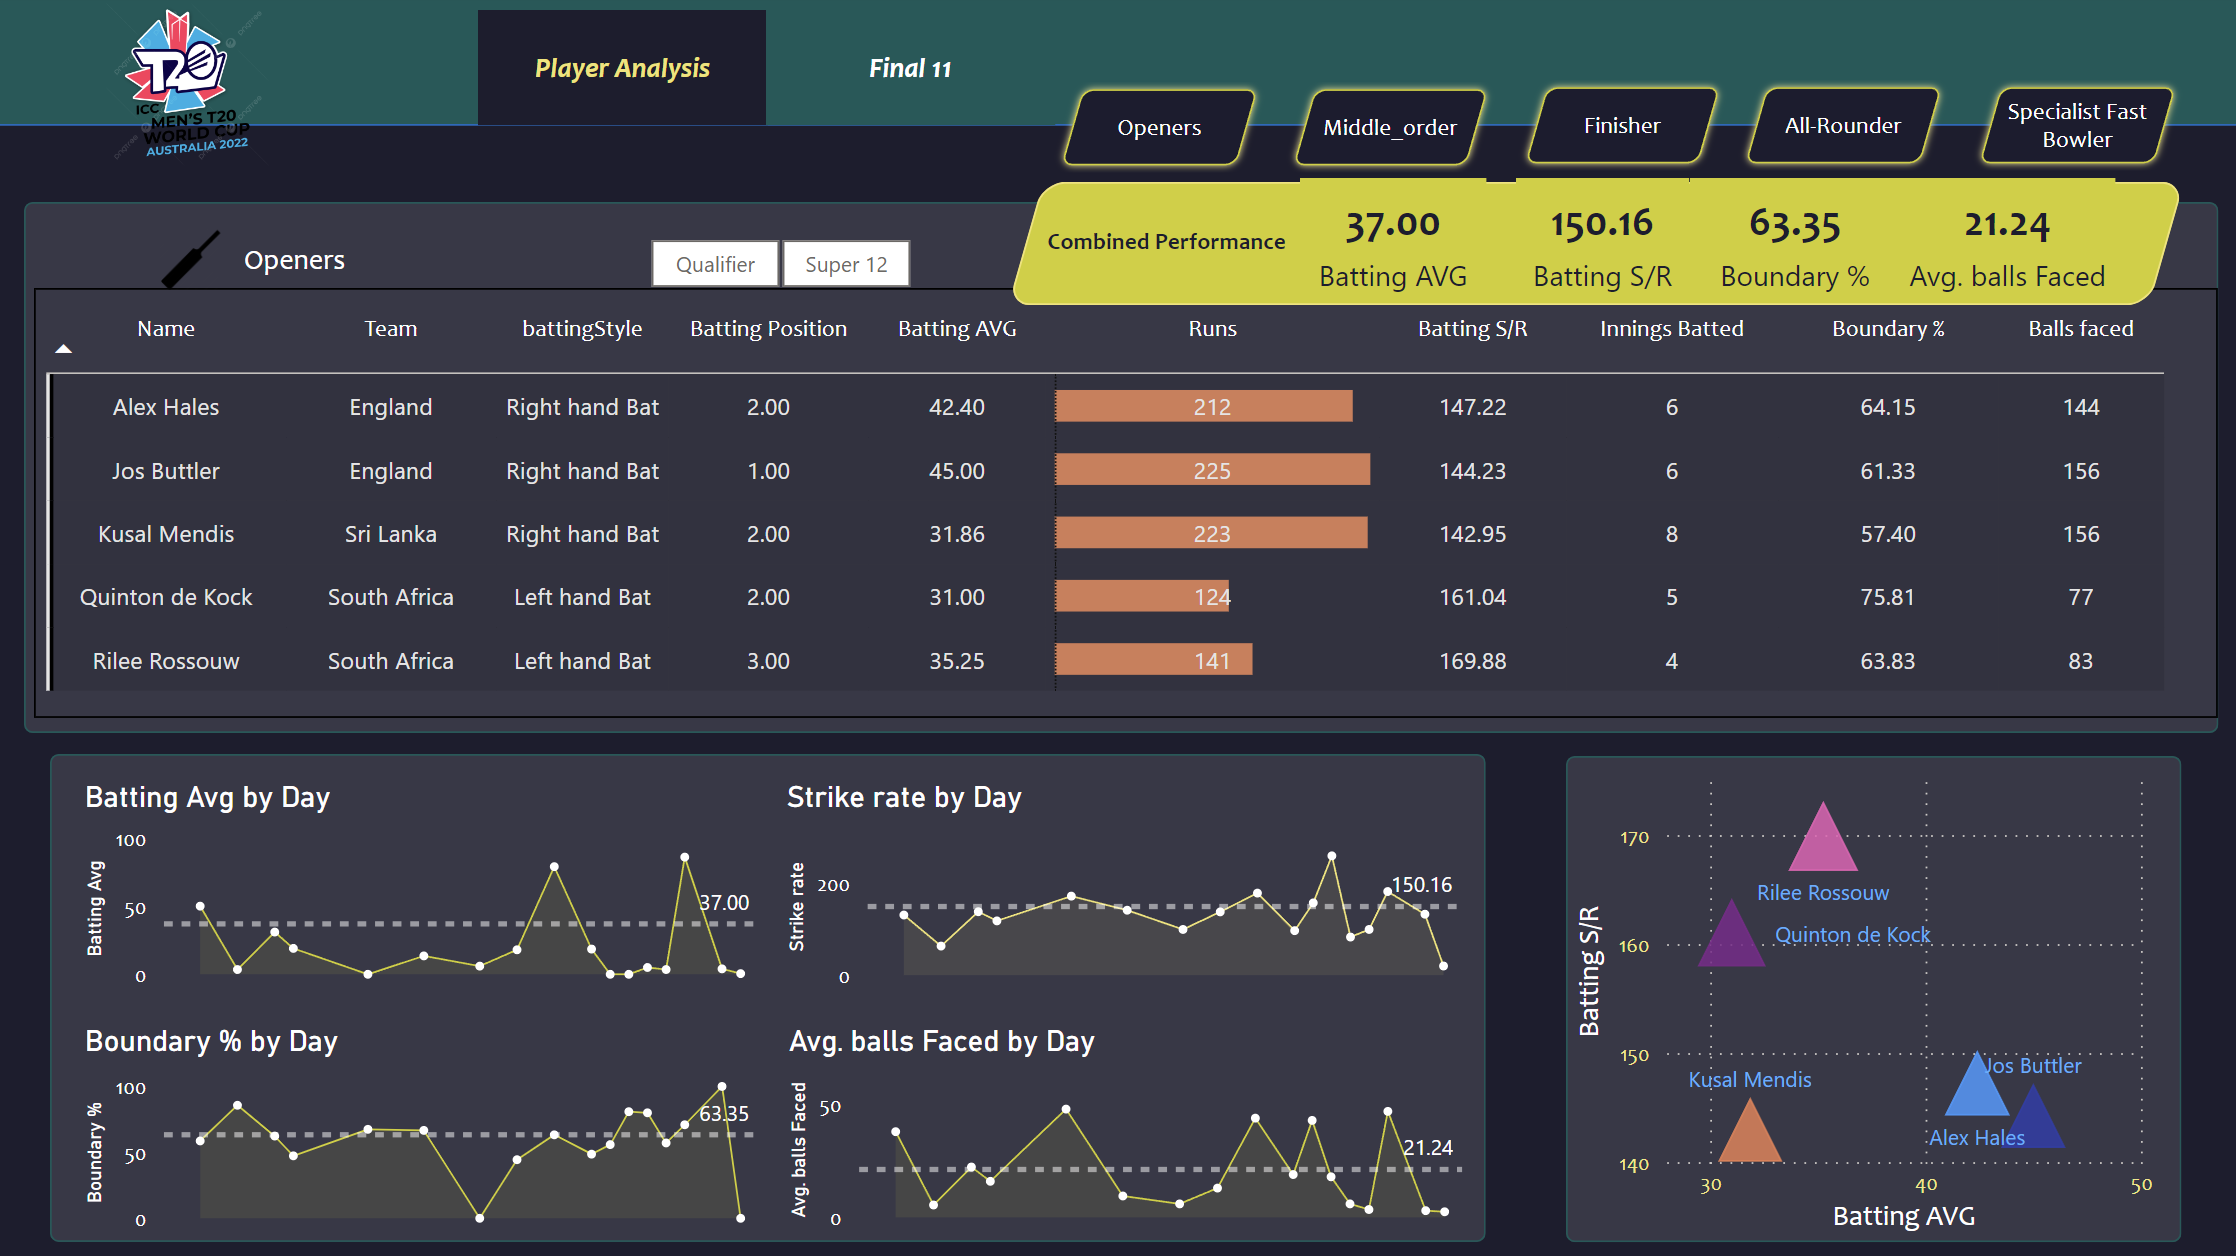

The page's visual inventory and layout, read from the dashboard file:
{"tool":"powerbi","page":{"name":"Openers","canvas":[1280,720],"ordinal":0},"visuals":[{"type":"shape","box":[0,74.7,1280,646.7],"z":0},{"type":"shape","box":[17.8,119.7,1248.2,301.9],"z":1000},{"type":"tableEx","fields":{"Values":["dim_players.name","dim_players.team","dim_players.battingStyle","Key_Measures.Batting Position","Key_Measures.Batting Avg","Key_Measures.Total Runs","Key_Measures.Strike rate","Key_Measures.Total Innings Batted","Key_Measures.Boundary %","Key_Measures.Total balls faced"]},"box":[24.2,168.1,1241.8,244.5],"z":2000},{"type":"scatterChart","fields":{"X":["Key_Measures.Batting Avg"],"Size":["Key_Measures.Strike rate"],"Y":["Key_Measures.Strike rate"],"Category":["dim_players.name"]},"box":[895.4,434.3,338.8,276.4],"z":3000},{"type":"slicer","fields":{"Values":["dim_match_summary.stage"]},"box":[349.5,134.4,197.2,40.3],"z":4000},{"type":"shape","box":[895.4,434.3,350.2,276.4],"z":5000},{"type":"shape","box":[143.4,131.4,83.6,40.3],"z":6000},{"type":"shape","box":[577.5,107.5,668.8,70],"z":7000},{"type":"card","fields":{"Values":["Key_Measures.Batting Avg"]},"box":[743.3,106,106,70.2],"z":8000},{"type":"card","fields":{"Values":["Key_Measures.Strike rate"]},"box":[867.3,106,98.6,70.2],"z":9000},{"type":"card","fields":{"Values":["Key_Measures.Boundary %"]},"box":[965.9,106,119.5,70.2],"z":10000},{"type":"card","fields":{"Values":["Key_Measures.Avg. balls Faced"]},"box":[1085.4,105.3,122.5,70.2],"z":11000},{"type":"shape","box":[592.5,119.5,150.9,44.8],"z":12000},{"type":"shape","box":[32.5,433.8,816.2,277.5],"z":13000},{"type":"actionButton","box":[603.8,51.2,120,51.2],"z":14000},{"type":"actionButton","box":[736.2,51.2,118.8,51.2],"z":15000},{"type":"actionButton","box":[867.5,50,118.8,51.2],"z":16000},{"type":"actionButton","box":[992.5,50,120,51.2],"z":17000},{"type":"actionButton","box":[1126.2,50,120,51.2],"z":18000},{"type":"areaChart","fields":{"Y":["Key_Measures.Batting Avg"],"Category":["dim_match_summary.matchDate.Variation.Date Hierarchy.Day"]},"box":[47.8,448.1,392.8,124],"z":19000},{"type":"areaChart","fields":{"Y":["Key_Measures.Strike rate"],"Category":["dim_match_summary.matchDate.Variation.Date Hierarchy.Day"]},"box":[447,448.3,393.6,124.8],"z":20000},{"type":"areaChart","fields":{"Y":["Key_Measures.Boundary %"],"Category":["dim_match_summary.matchDate.Variation.Date Hierarchy.Day"]},"box":[47.8,587,392.8,124],"z":21000},{"type":"areaChart","fields":{"Y":["Key_Measures.Avg. balls Faced"],"Category":["dim_match_summary.matchDate.Variation.Date Hierarchy.Day"]},"box":[448.1,587,392.8,124],"z":22000},{"type":"image","box":[50.8,0,121,106],"z":23000},{"type":"image","box":[74.7,129.9,76.2,44.8],"z":24000},{"type":"actionButton","box":[276.3,10.5,164.3,65.7],"z":25000},{"type":"actionButton","box":[440.6,10.5,164.3,65.7],"z":26000},{"type":"shape","box":[704.4,116.2,347.5,46.2],"z":27000}]}

Visuals, with their boxes in screenshot pixels (x1, y1, x2, y2), scaled from the page's 1280x720 canvas onto the 2236x1256 screenshot:
shape: <box>0,130,2235,1255</box>
shape: <box>31,209,2212,735</box>
tableEx - dim_players.name x dim_players.team: <box>42,293,2212,720</box>
scatterChart - Key_Measures.Batting Avg x Key_Measures.Strike rate: <box>1564,758,2156,1240</box>
slicer - dim_match_summary.stage: <box>611,234,955,305</box>
shape: <box>1564,758,2176,1240</box>
shape: <box>251,229,397,300</box>
shape: <box>1009,188,2177,310</box>
card - Key_Measures.Batting Avg: <box>1298,185,1484,307</box>
card - Key_Measures.Strike rate: <box>1515,185,1687,307</box>
card - Key_Measures.Boundary %: <box>1687,185,1896,307</box>
card - Key_Measures.Avg. balls Faced: <box>1896,184,2110,306</box>
shape: <box>1035,208,1299,287</box>
shape: <box>57,757,1483,1241</box>
actionButton: <box>1055,89,1264,179</box>
actionButton: <box>1286,89,1494,179</box>
actionButton: <box>1515,87,1723,177</box>
actionButton: <box>1734,87,1943,177</box>
actionButton: <box>1967,87,2177,177</box>
areaChart - Key_Measures.Batting Avg x dim_match_summary.matchDate.Variation.Date Hierarchy.Day: <box>84,782,770,998</box>
areaChart - Key_Measures.Strike rate x dim_match_summary.matchDate.Variation.Date Hierarchy.Day: <box>781,782,1468,1000</box>
areaChart - Key_Measures.Boundary % x dim_match_summary.matchDate.Variation.Date Hierarchy.Day: <box>84,1024,770,1240</box>
areaChart - Key_Measures.Avg. balls Faced x dim_match_summary.matchDate.Variation.Date Hierarchy.Day: <box>783,1024,1469,1240</box>
image: <box>89,0,300,185</box>
image: <box>130,227,264,305</box>
actionButton: <box>483,18,770,133</box>
actionButton: <box>770,18,1057,133</box>
shape: <box>1230,203,1838,283</box>
